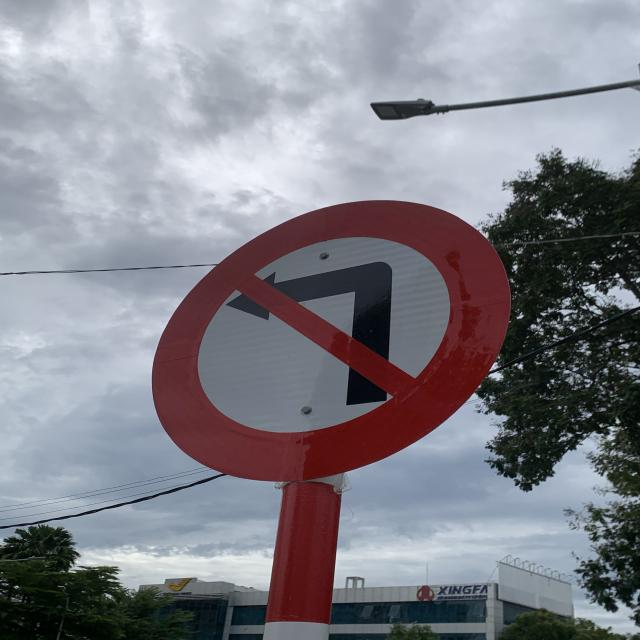Cam_Re_Trai: (156, 198, 508, 483)
